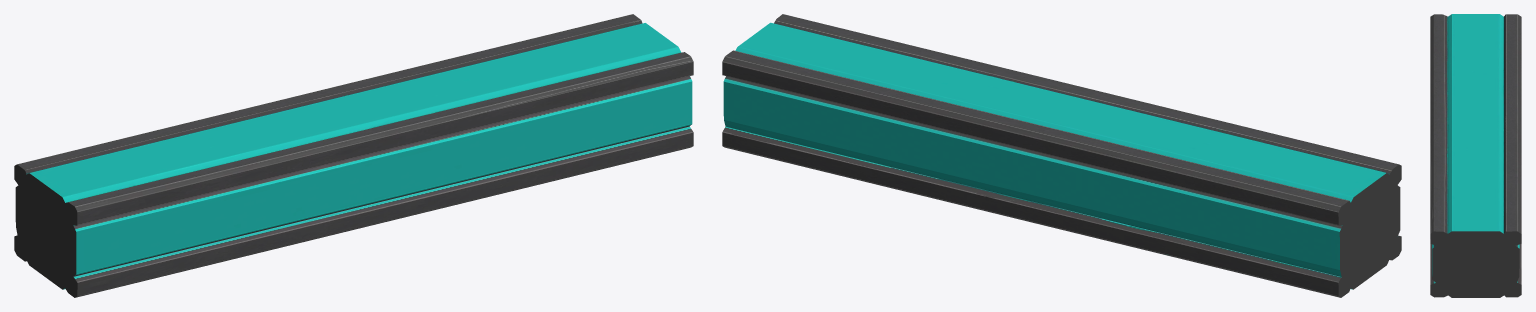
Rendered from edge_teal.glb.
3 renders of one model, left to right at view 1: azimuth 30°, elevation 25°; view 2: azimuth 150°, elevation 25°; view 3: azimuth 270°, elevation 25°, orthographic. The views are drawn at different scales.
Visible parts, largest first — view 1: edge_teal; view 2: edge_teal; view 3: edge_teal.
Part boxes in pixels (x1=…): edge_teal: x1=14, y1=14, x2=693, y2=297; edge_teal: x1=722, y1=14, x2=1401, y2=297; edge_teal: x1=1430, y1=14, x2=1521, y2=297.
Bounding box in the file's own units: 2.8 × 0.4016 × 0.4982.
1 material, 1 textured.
